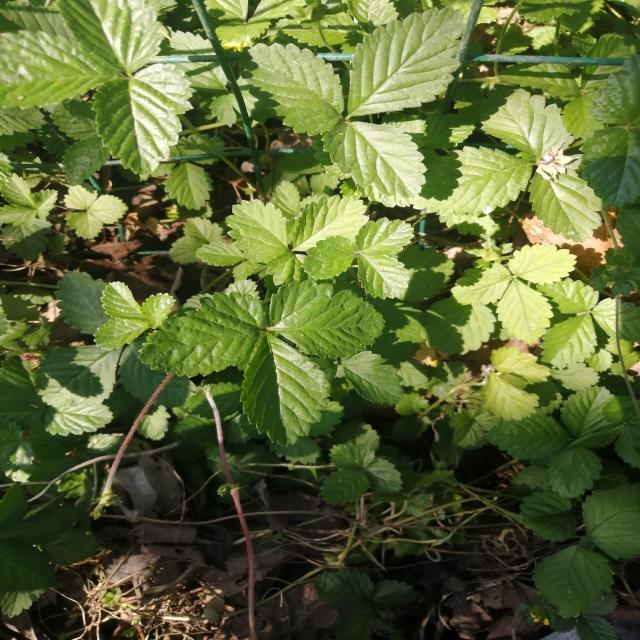Mock_strawberry: (140, 190, 410, 416)
